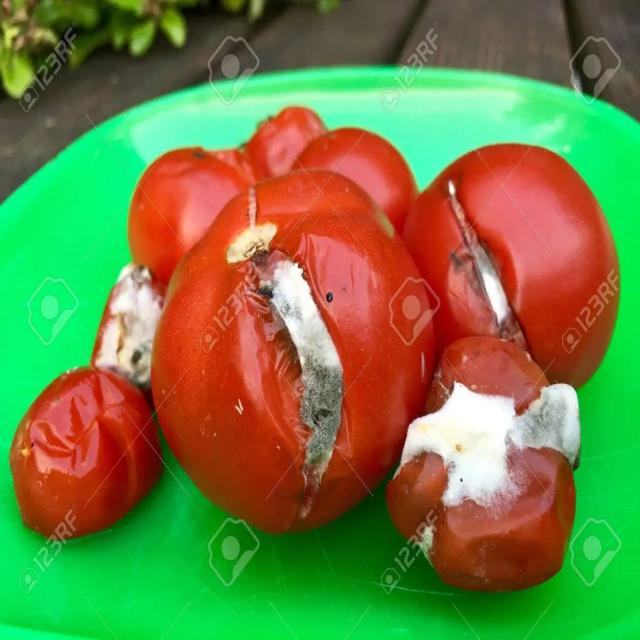overripe tomato: (3, 76, 640, 622)
